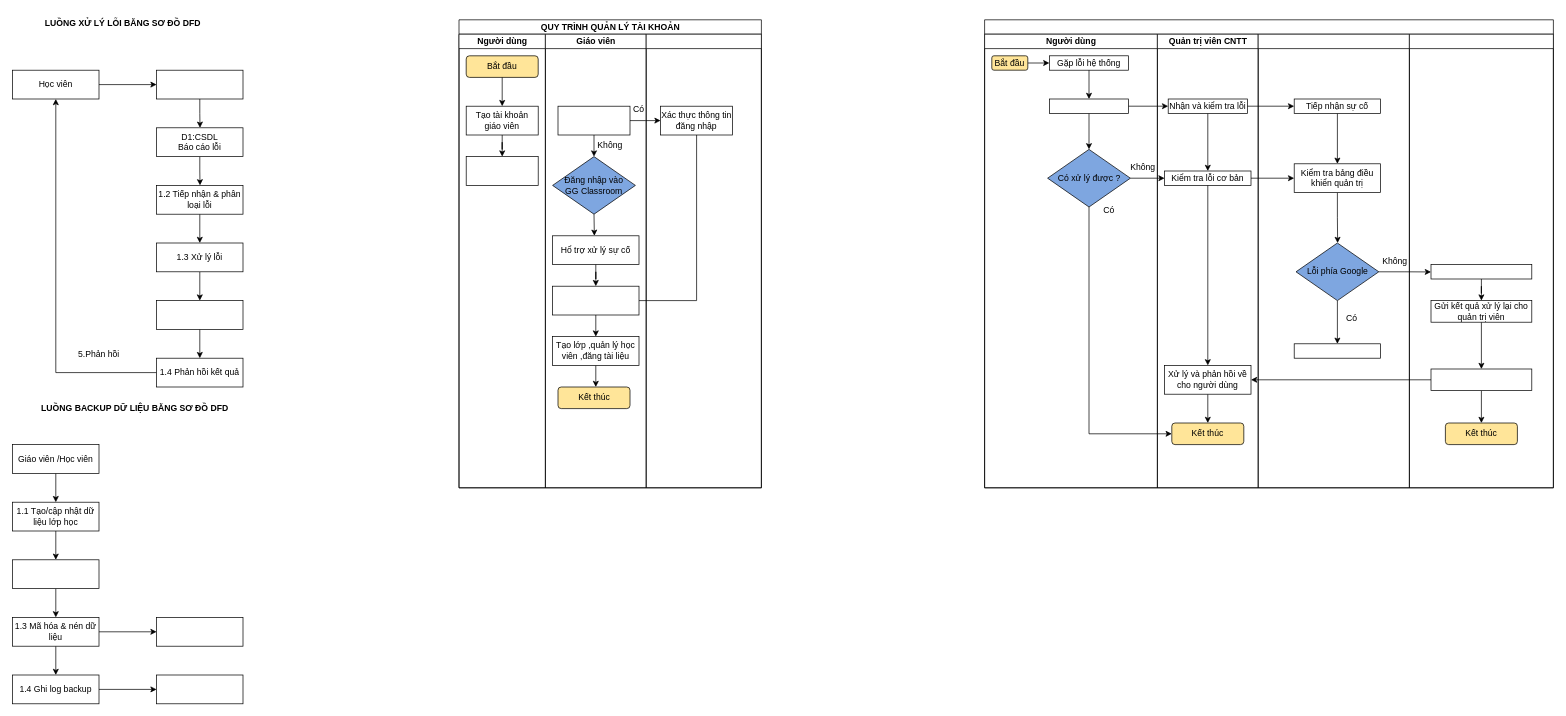
Some shapes in this 1566 by 716 pixel diagram are drawn without their labels. The shapes that lost their labels are listed below. From the top down, each one's box as (x1, y1, x2, y2) in pixels, then its label:
(156, 69, 243, 99): 1.1 Gửi báo cáo lỗi
(557, 105, 630, 135): Nhận thông tin tài khoản
(1049, 98, 1129, 113): Gửi yêu cầu hỗ trợ
(465, 156, 538, 185): Phân quyền tài khoản
(645, 33, 761, 488): Hệ thống
(984, 19, 1553, 488): QUY TRÌNH HỖ TRỢ KHI XẢY RA LỖI
(1257, 33, 1409, 488): Quản trị viên GG Workspace
(1409, 33, 1553, 488): Hệ thống hỗ trợ Google
(1430, 264, 1532, 279): Tiếp nhận lỗi
(156, 300, 243, 329): D2:CSDL Lỗi đã xử lý
(552, 285, 639, 315): Sử dụng tài khoản giảng dạy
(1293, 343, 1381, 358): Khắc phục lỗi
(1430, 368, 1532, 391): Phản hồi về cho quản trị viên CNTT
(12, 559, 99, 589): 1.2.Kích hoạt backup định kỳ/theo sự kiện
(156, 617, 243, 646): D2: Kho Backup dữ liệu
(156, 674, 243, 704): D3: Nhật ký Backup
